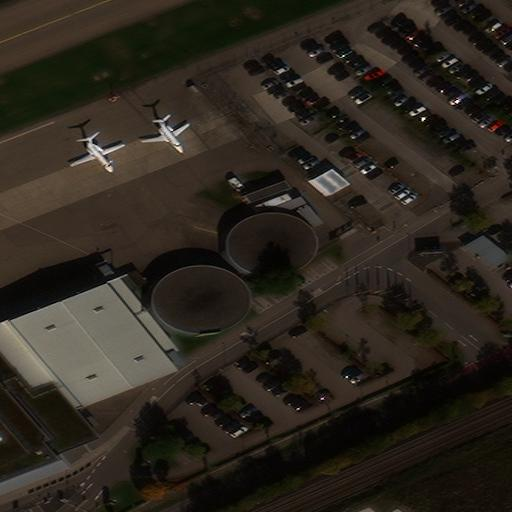Medium Civil Transport: (71, 137, 125, 172)
Small Civil Transport: (142, 118, 190, 153)
